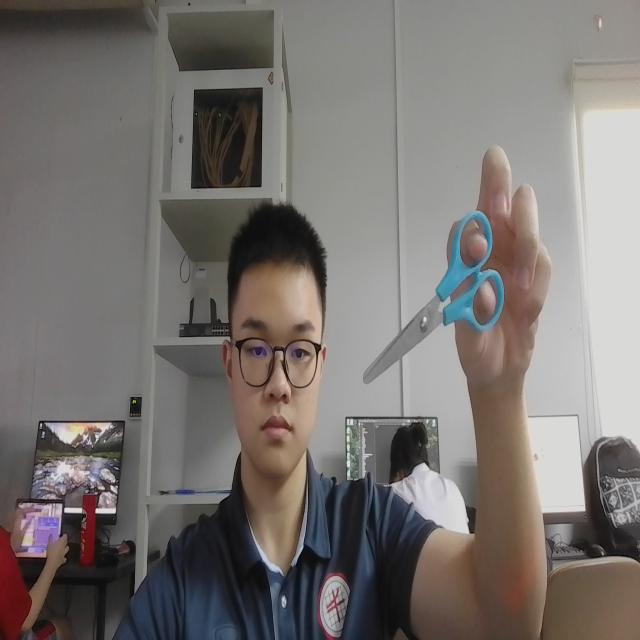scissors: (353, 201, 510, 401)
